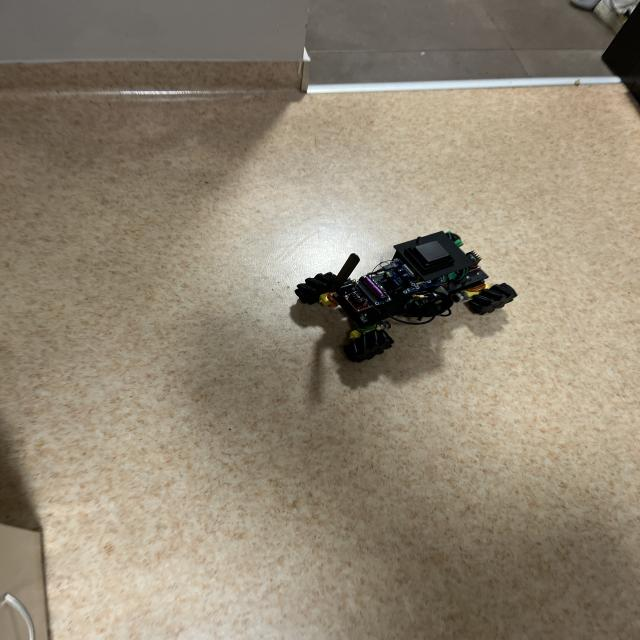robot: (295, 231, 516, 362)
